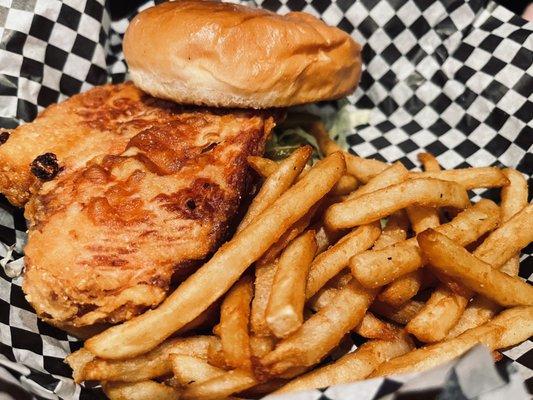soup: (0, 1, 368, 391), (122, 1, 366, 161)
